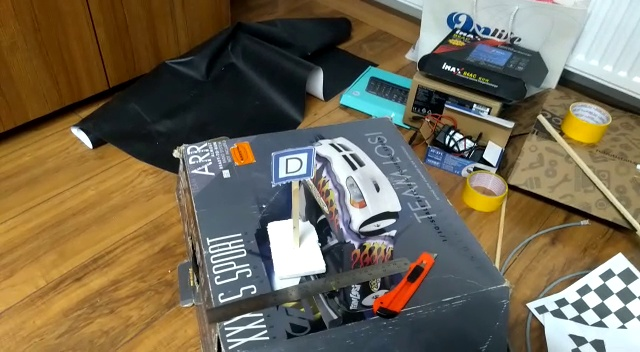durak: (267, 142, 319, 186)
